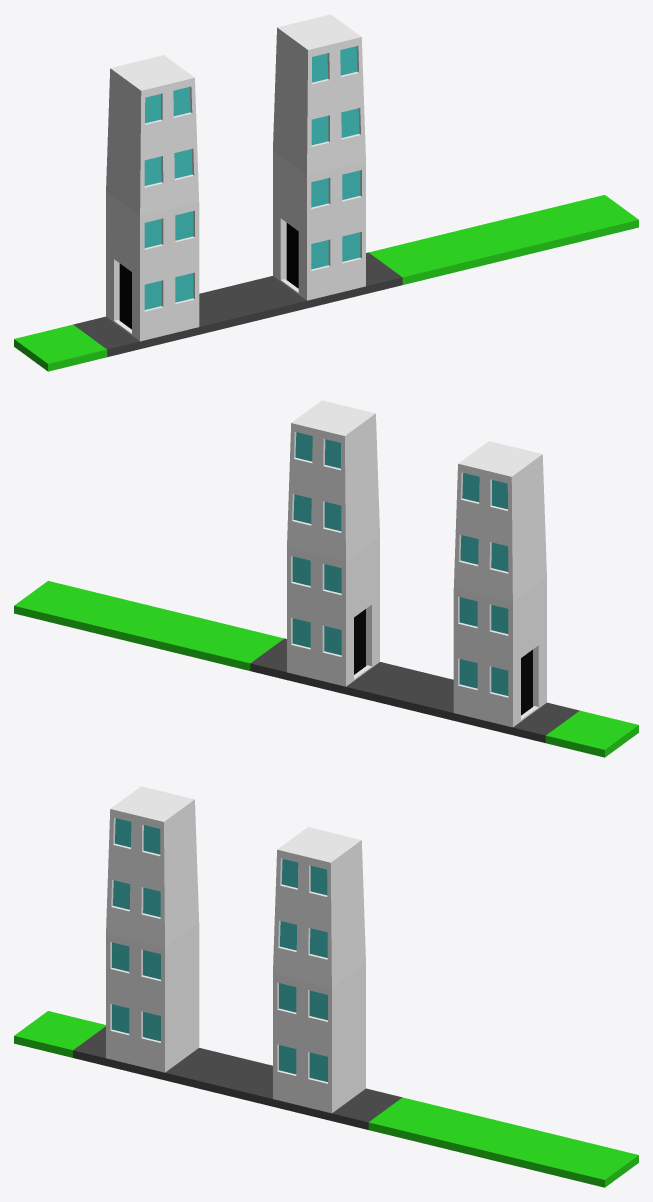
File: Platform3.fbx
The picture shows the model from 3 angles, top to bottom: view 1: azimuth 30°, elevation 25°; view 2: azimuth 150°, elevation 25°; view 3: azimuth 330°, elevation 25°; orthographic projection.
Visible parts, largest first — view 1: Building 3, Building 1, Platform4Grass2, Platform1Conc1, Platform1Grass; view 2: Building 3, Building 1, Platform4Grass2, Platform1Conc1, Platform1Grass; view 3: Building 3, Building 1, Platform4Grass2, Platform1Conc1, Platform1Grass.
Boxes of the visible parts, x1,y1,x2,y2 form: Building 3: [106, 55, 199, 341]; Building 1: [273, 14, 365, 300]; Platform4Grass2: [369, 195, 638, 284]; Platform1Conc1: [73, 252, 402, 356]; Platform1Grass: [14, 324, 107, 371]; Building 3: [453, 441, 546, 727]; Building 1: [287, 400, 379, 686]; Platform4Grass2: [14, 581, 283, 670]; Platform1Conc1: [250, 638, 579, 742]; Platform1Grass: [545, 710, 638, 757]; Building 3: [106, 786, 199, 1072]; Building 1: [273, 827, 365, 1113]; Platform4Grass2: [368, 1097, 638, 1187]; Platform1Conc1: [73, 1026, 402, 1129]; Platform1Grass: [14, 1011, 105, 1057].
Bounding box in the file's own units: 2000 × 830 × 200.
